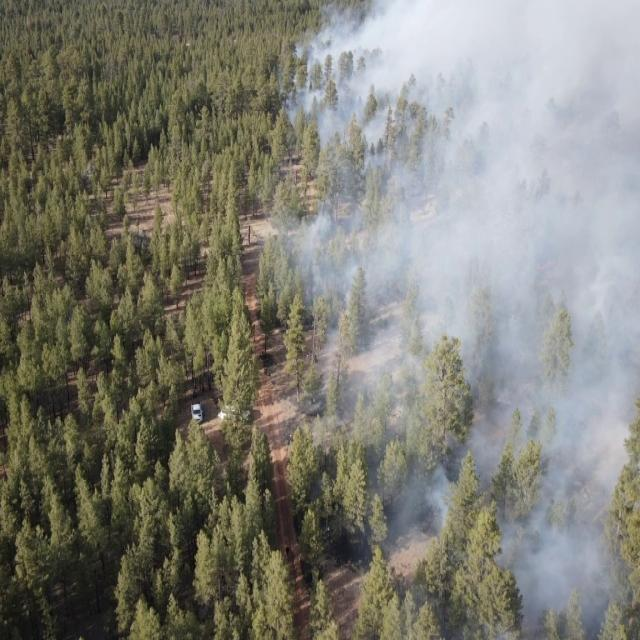smoke: (273, 0, 640, 490), (363, 490, 640, 640)
